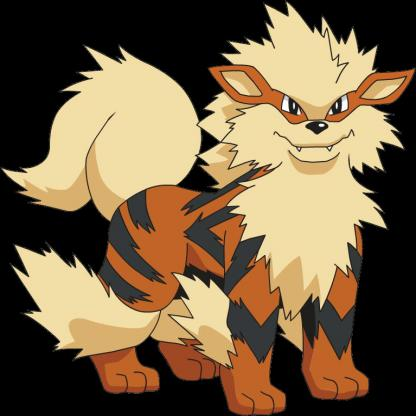Arcanine: (50, 18, 416, 416)
